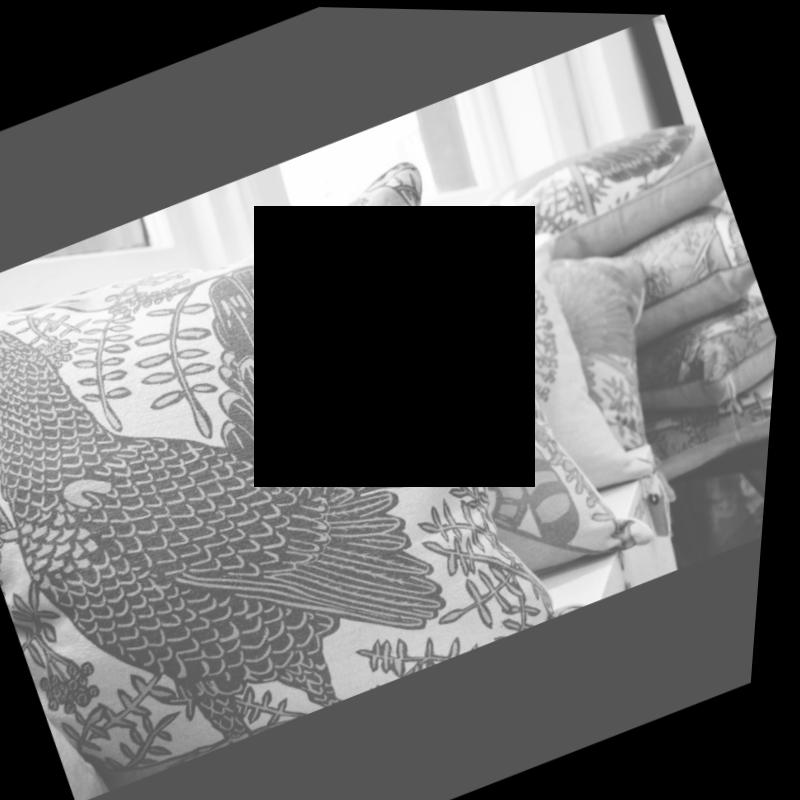pillow: (0, 121, 616, 800), (373, 181, 687, 598), (452, 219, 679, 519), (454, 101, 741, 305), (548, 220, 741, 512), (592, 186, 780, 364), (630, 281, 784, 436), (650, 350, 780, 474)
